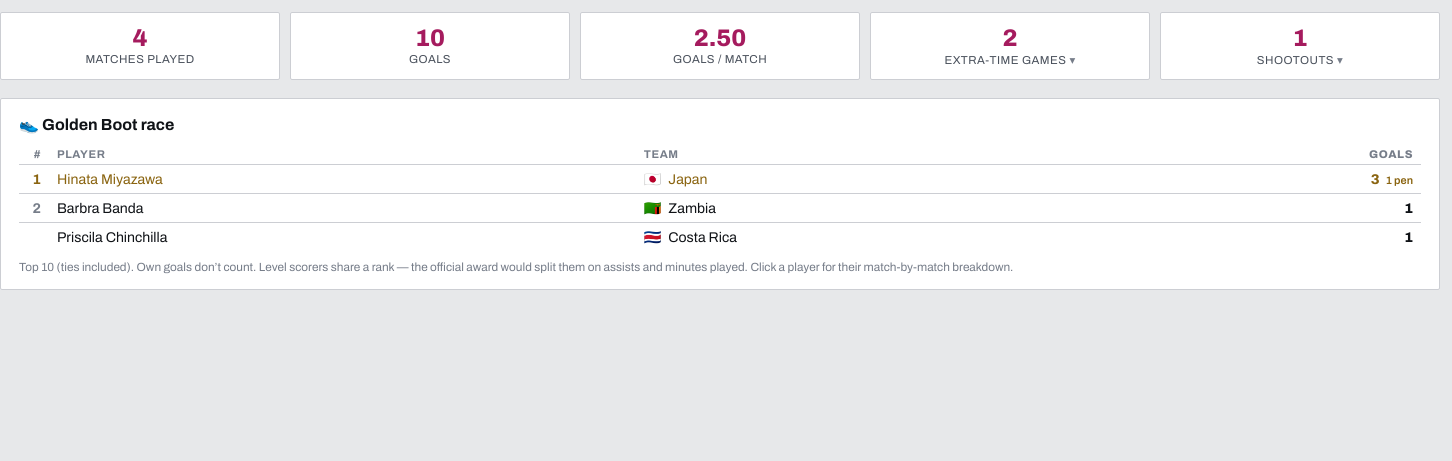
Test case: StatsView tile drill-down › expands the extra-time tile into its match list (shootout noted)
The image size is (1452, 461).
Click the button "2 extra-time games ▾" at (1010, 46), box [870, 12, 1150, 80]
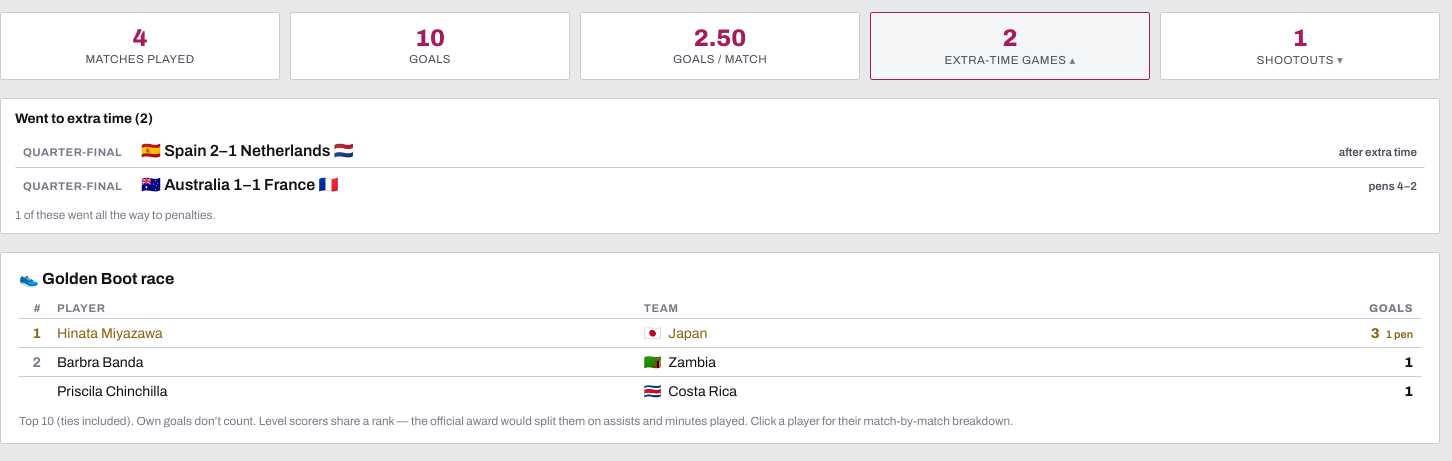
Check: the heading "Went to extra time (2)" is shown, box [15, 111, 153, 126]
Check: the text "🇪🇸 Spain 2–1 Netherlands 🇳🇱" is shown, box [141, 141, 354, 160]
Check: the text "🇦🇺 Australia 1–1 France 🇫🇷" is shown, box [141, 175, 338, 194]
Click the button "2 extra-time games ▴" at (1010, 46), box [870, 12, 1150, 80]
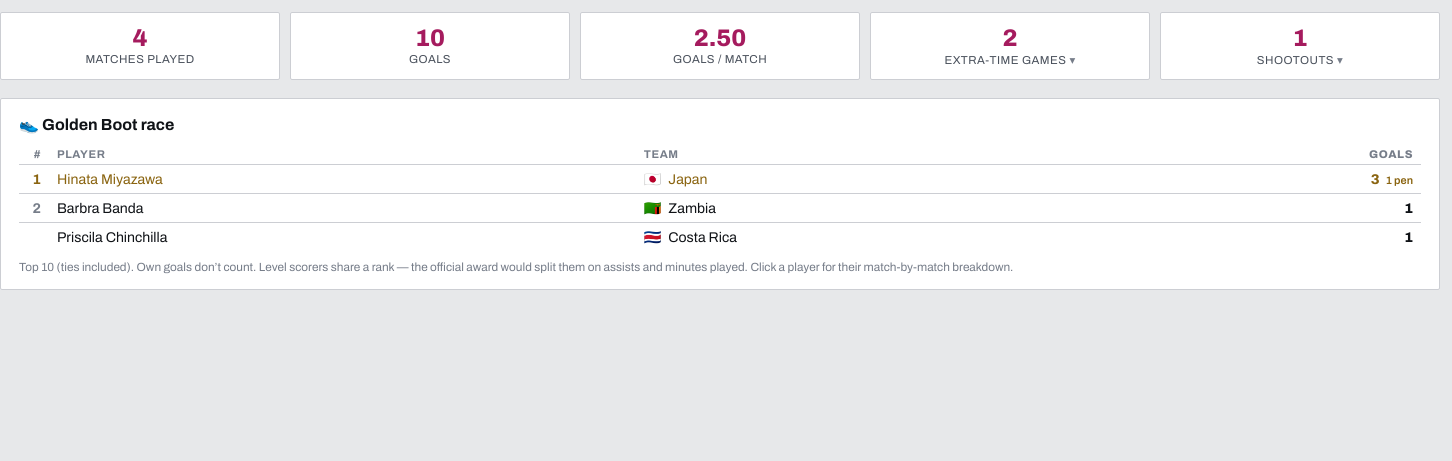
Check: the heading "Went to extra time" is gone
